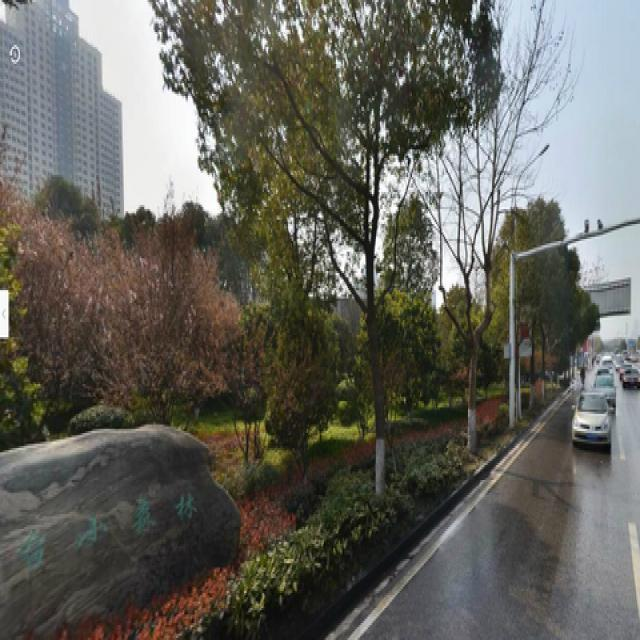cinn: (256, 8, 431, 495)
